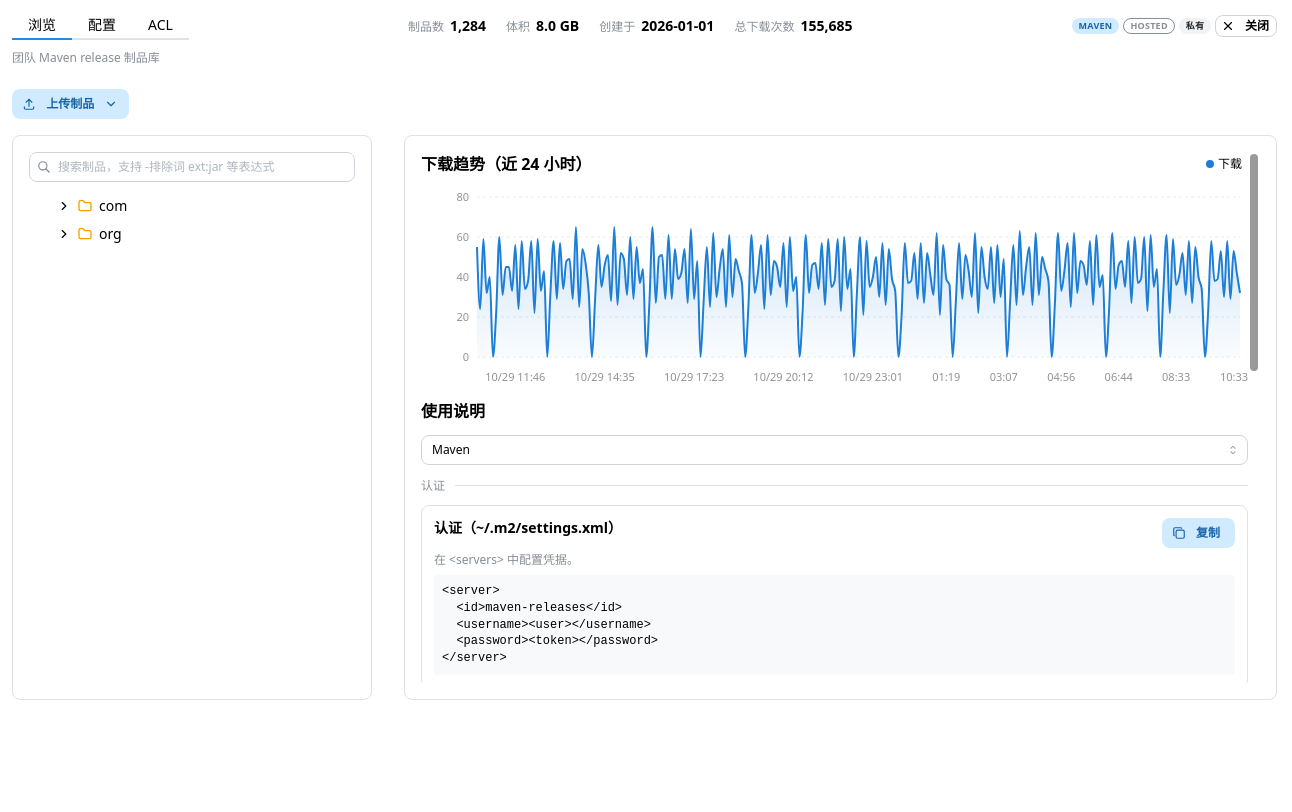
Test case: 仓库详情 › 目录树点选文件后渲染详情与使用说明
# 懒加载目录树：根层仅有 com，逐级点开 maven 坐标目录
Step 1. Click the list item "com" → [64, 206], box [29,192,343,220]
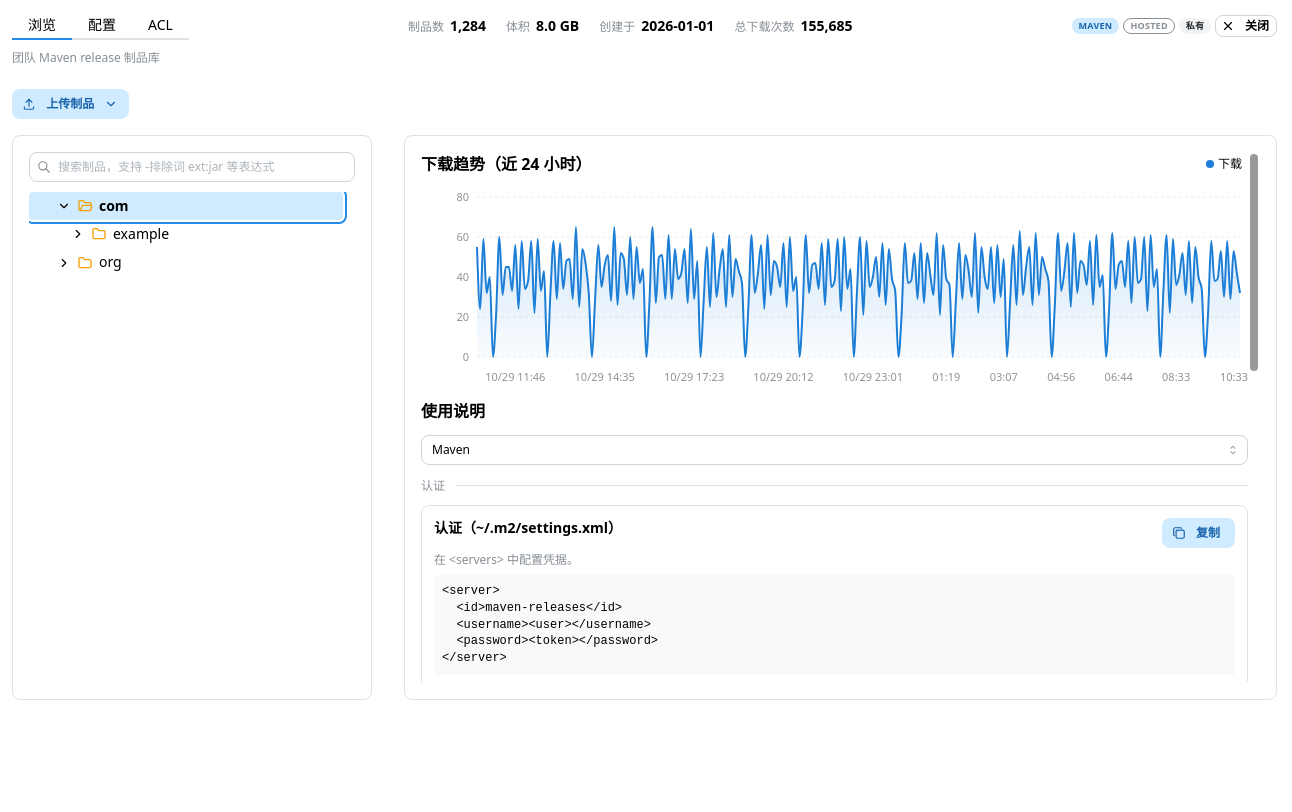
Step 2. Click the list item "example" → [141, 234], box [29,220,343,248]
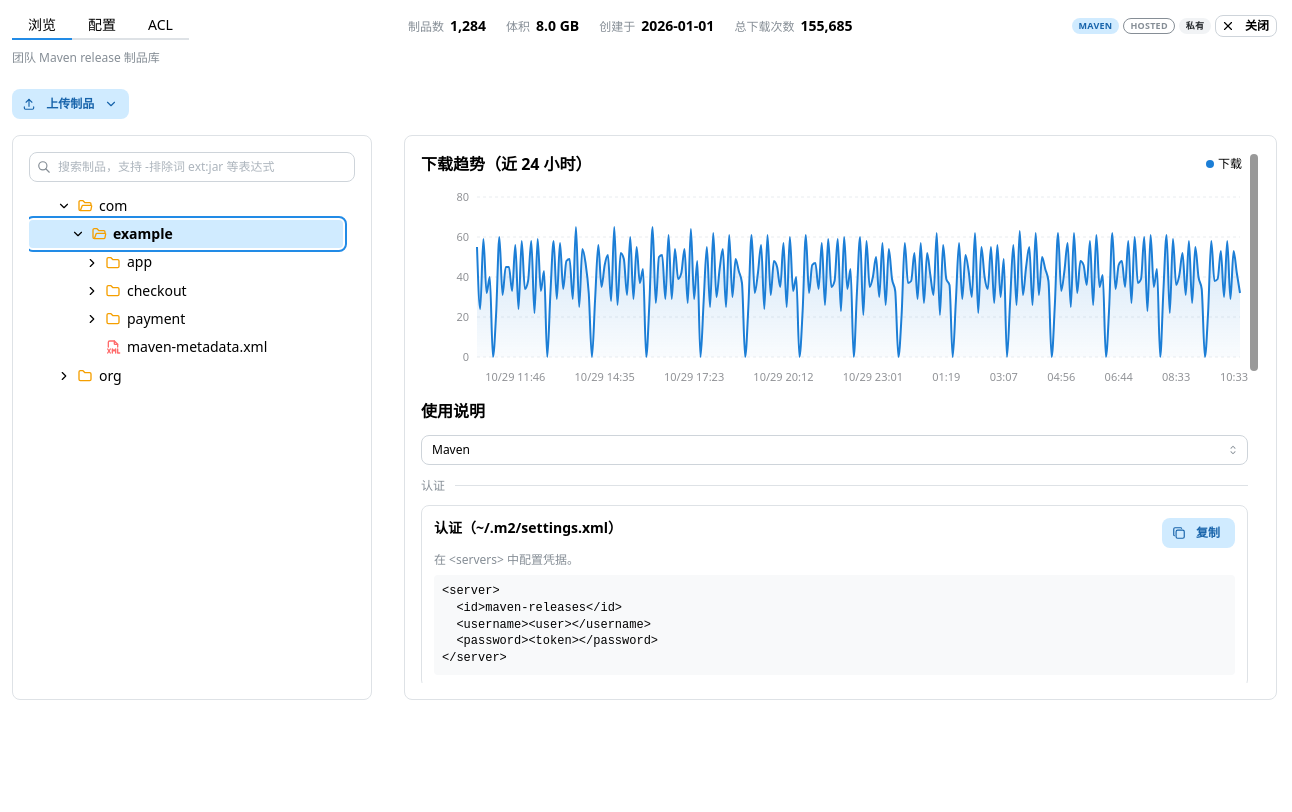
Step 3. Click the list item "app" → [92, 263], box [29,248,343,277]
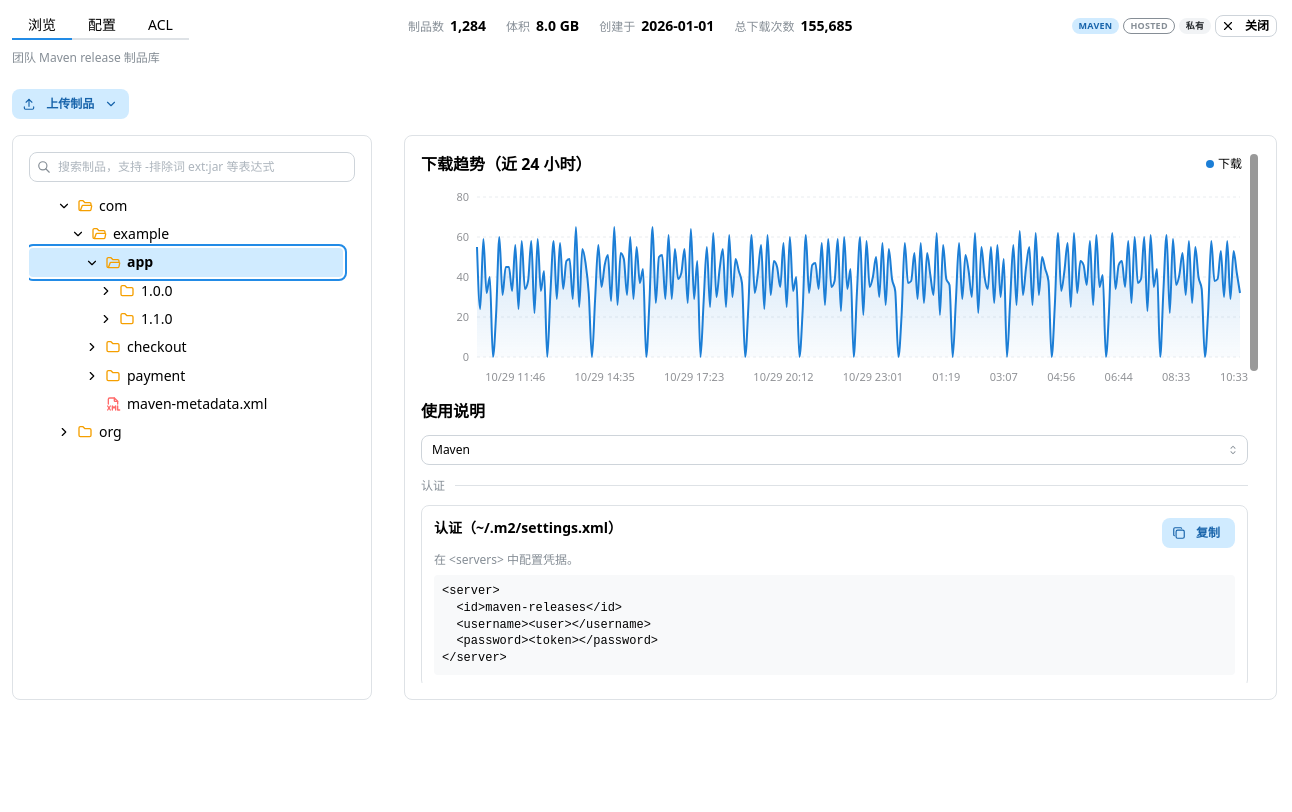
Step 4. Click the list item "1.0.0" → [157, 290], box [29,277,343,305]
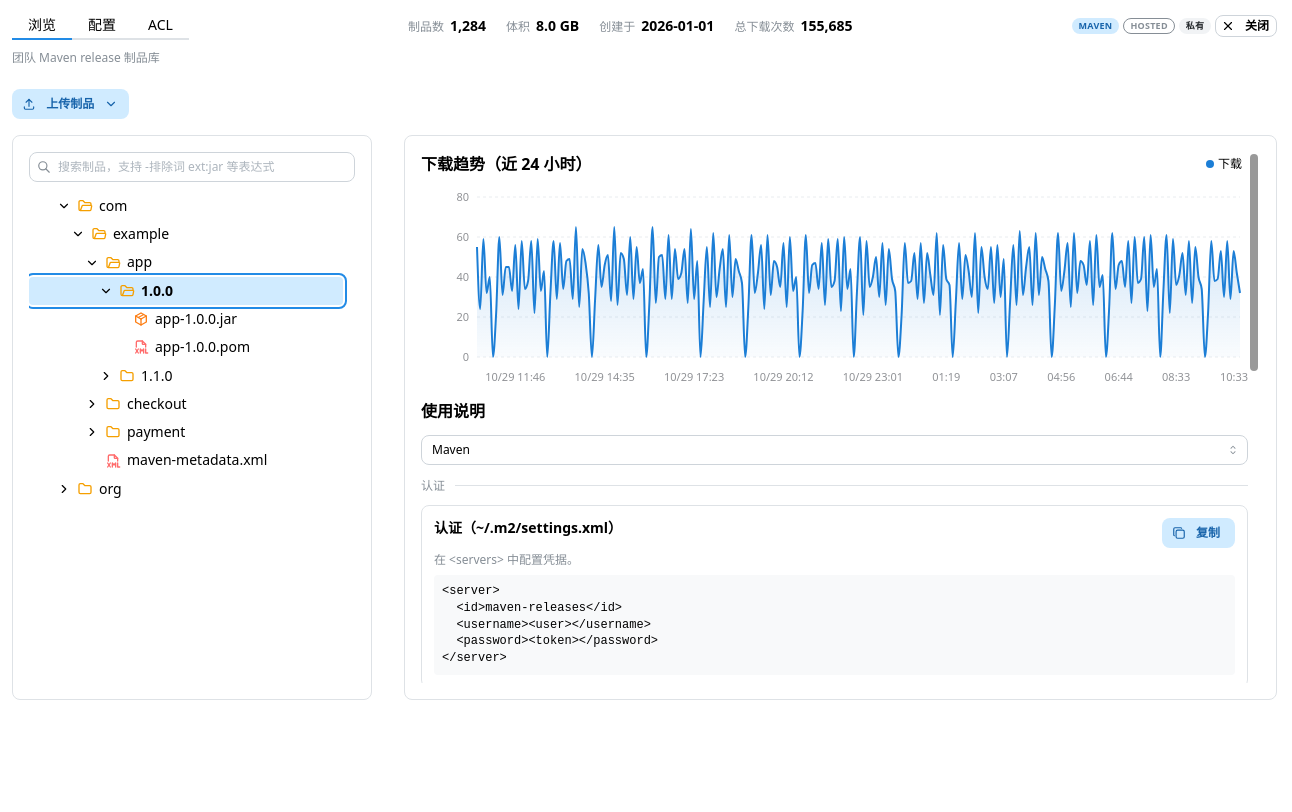
Step 5. Click the list item "app-1.0.0.jar" → [186, 319], box [29,305,343,333]
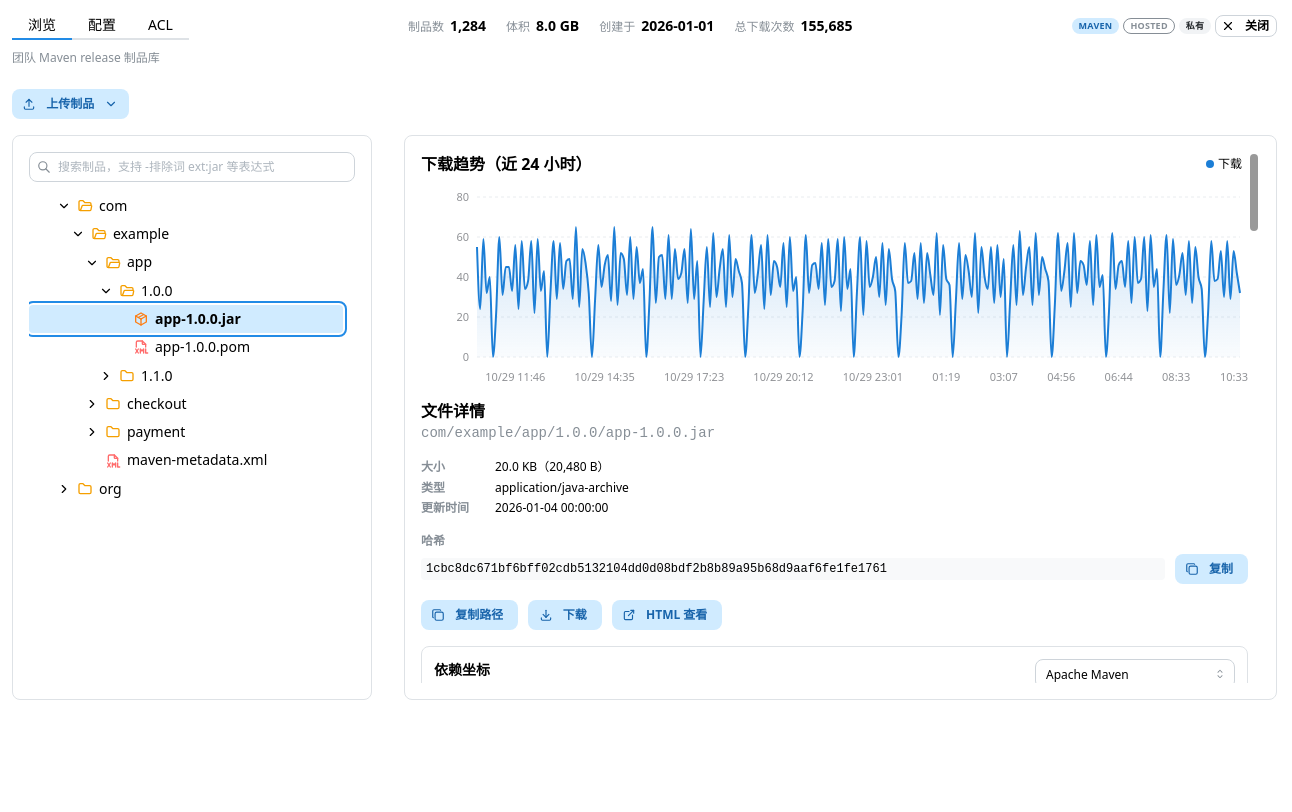
Expected: the button "复制" is shown, [1175,554,1248,584]
Result: the text "com/example/app/1.0.0/app-1.0.0.jar" is shown at [421,425,715,441]
